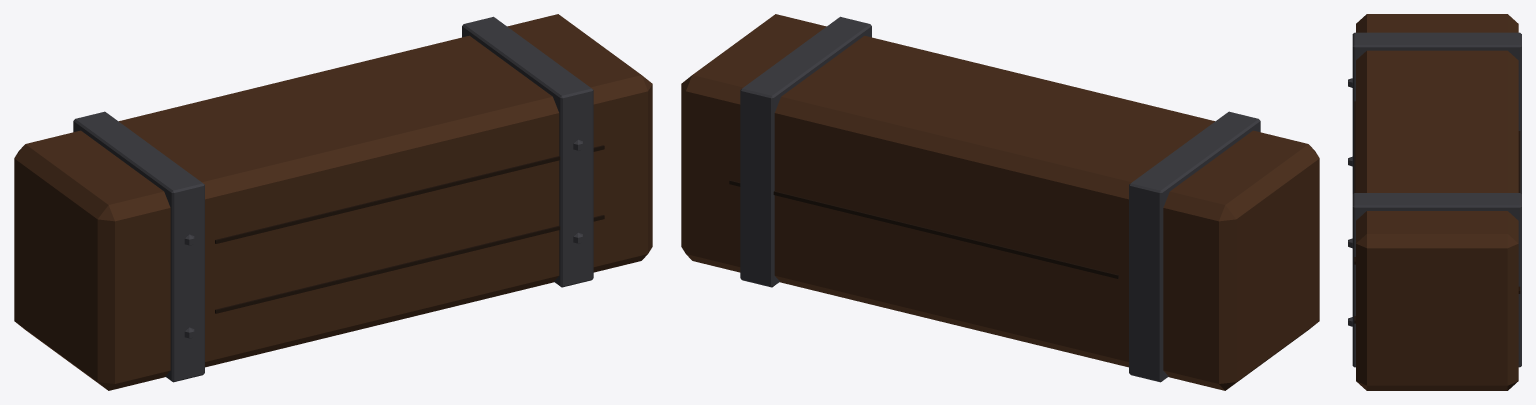
File: beam.obj
3 views of the same model, side by side, from view 1: azimuth 30°, elevation 25°; view 2: azimuth 150°, elevation 25°; view 3: azimuth 270°, elevation 25° (orthographic). The views are drawn at different scales.
Visible parts, largest first — view 1: box, box.004, box.005, box.001, box.002; view 2: box, box.005, box.004, box.003; view 3: box, box.005, box.004, box.003, box.002.
Part boxes in pixels (bbox=[...]): box: bbox=[14, 14, 652, 390]; box.004: bbox=[73, 111, 204, 382]; box.005: bbox=[462, 16, 593, 287]; box.001: bbox=[215, 215, 604, 313]; box.002: bbox=[215, 145, 604, 243]; box: bbox=[681, 14, 1319, 390]; box.005: bbox=[740, 16, 871, 287]; box.004: bbox=[1129, 111, 1260, 382]; box.003: bbox=[729, 180, 1118, 278]; box: bbox=[1356, 14, 1518, 390]; box.005: bbox=[1352, 193, 1521, 367]; box.004: bbox=[1352, 32, 1521, 193]; box.003: bbox=[1518, 131, 1520, 293]; box.002: bbox=[1354, 101, 1355, 264].
Bounding box in the file's own units: 1 × 0.33 × 0.3205.
